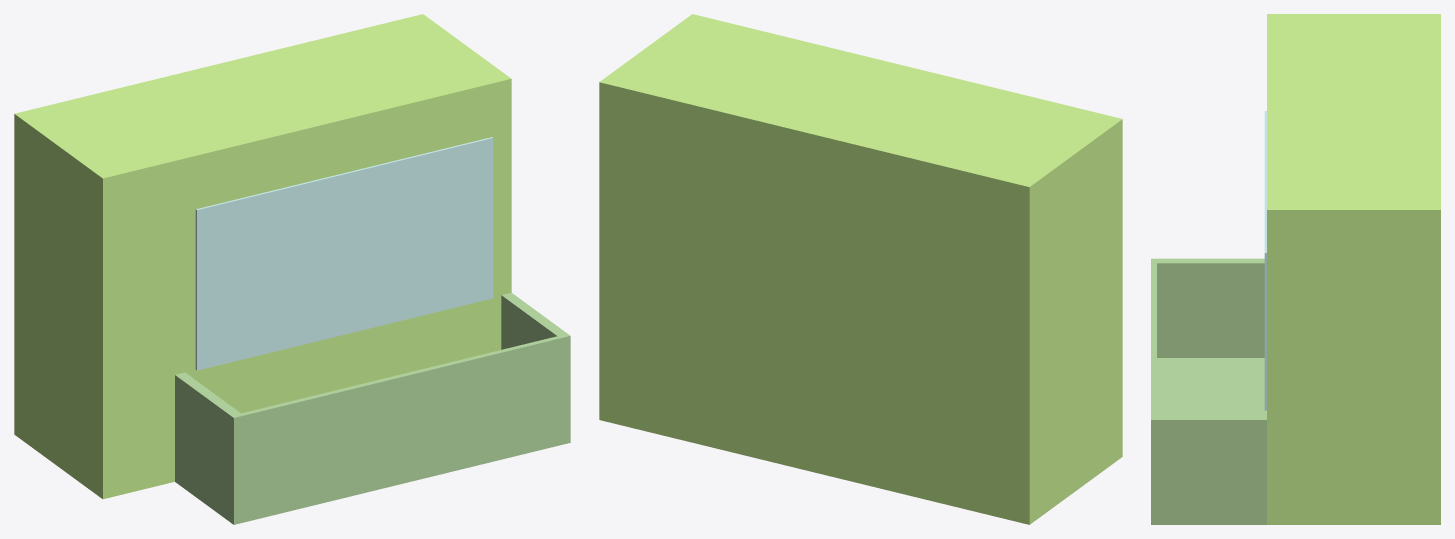
3 views of the same model, side by side, from view 1: azimuth 30°, elevation 25°; view 2: azimuth 150°, elevation 25°; view 3: azimuth 270°, elevation 25° (orthographic). The views are drawn at different scales.
Visible parts, largest first — view 1: Mesh_0; view 2: Mesh_0; view 3: Mesh_0.
Boxes of the visible parts, bbox=[...] form: Mesh_0: bbox=[14, 14, 570, 524]; Mesh_0: bbox=[599, 14, 1122, 524]; Mesh_0: bbox=[1151, 14, 1440, 524].
Bounding box in the file's own units: 4 × 3 × 2.5.
